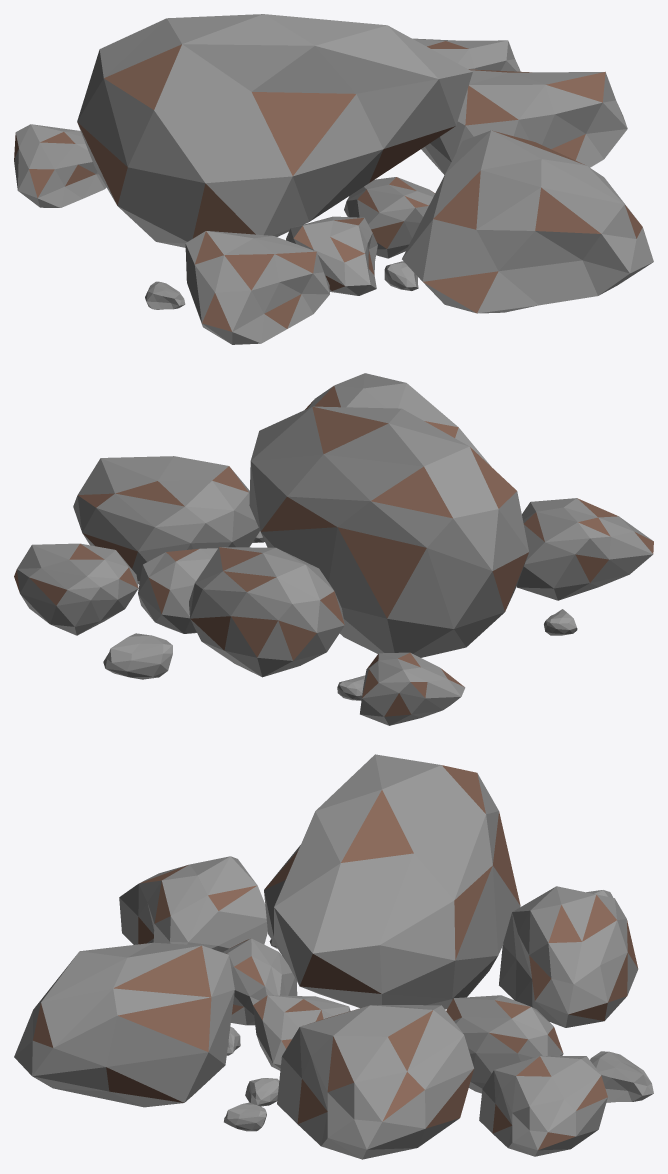
Rendered from IronOre.fbx.
The picture shows the model from 3 angles, top to bottom: view 1: azimuth 30°, elevation 25°; view 2: azimuth 150°, elevation 25°; view 3: azimuth 270°, elevation 25°; orthographic projection. The views are drawn at different scales.
Visible parts, largest first — view 1: Icosphere, Icosphere.003, Icosphere.004, Icosphere.002, Icosphere.011, Icosphere.005, Icosphere.006, Icosphere.008, Icosphere.015, Icosphere.016; view 2: Icosphere, Icosphere.002, Icosphere.001, Icosphere.004, Icosphere.008, Icosphere.011, Icosphere.007, Icosphere.003, Icosphere.009, Icosphere.015, Icosphere.014; view 3: Icosphere, Icosphere.003, Icosphere.002, Icosphere.001, Icosphere.004, Icosphere.008, Icosphere.007, Icosphere.005, Icosphere.006, Icosphere.009, Icosphere.013, Icosphere.012.
Part boxes in pixels (x1,y1,x2,y2): Icosphere: (77, 14, 472, 247); Icosphere.003: (402, 130, 653, 313); Icosphere.004: (185, 231, 329, 344); Icosphere.002: (421, 69, 627, 174); Icosphere.011: (14, 124, 106, 207); Icosphere.005: (286, 216, 377, 295); Icosphere.006: (344, 177, 434, 258); Icosphere.008: (412, 38, 520, 71); Icosphere.015: (145, 281, 185, 309); Icosphere.016: (384, 261, 418, 290); Icosphere: (249, 406, 528, 657); Icosphere.002: (73, 456, 259, 584); Icosphere.001: (189, 547, 344, 677); Icosphere.004: (516, 498, 653, 600); Icosphere.008: (14, 543, 138, 635); Icosphere.011: (360, 652, 465, 725); Icosphere.007: (138, 548, 217, 633); Icosphere.003: (305, 373, 491, 466); Icosphere.009: (103, 633, 172, 679); Icosphere.015: (544, 609, 577, 635); Icosphere.014: (337, 675, 365, 700); Icosphere: (264, 754, 520, 1009); Icosphere.003: (14, 942, 234, 1107); Icosphere.002: (277, 1005, 474, 1159); Icosphere.001: (499, 886, 638, 1027); Icosphere.004: (119, 856, 267, 952); Icosphere.008: (479, 1055, 607, 1156); Icosphere.007: (446, 995, 563, 1093); Icosphere.005: (222, 938, 297, 1025); Icosphere.006: (253, 995, 350, 1070); Icosphere.009: (590, 1051, 653, 1102); Icosphere.013: (224, 1102, 266, 1131); Icosphere.012: (245, 1078, 279, 1106).
Size of the model in its own units: 56.03 by 23.65 by 57.86.
